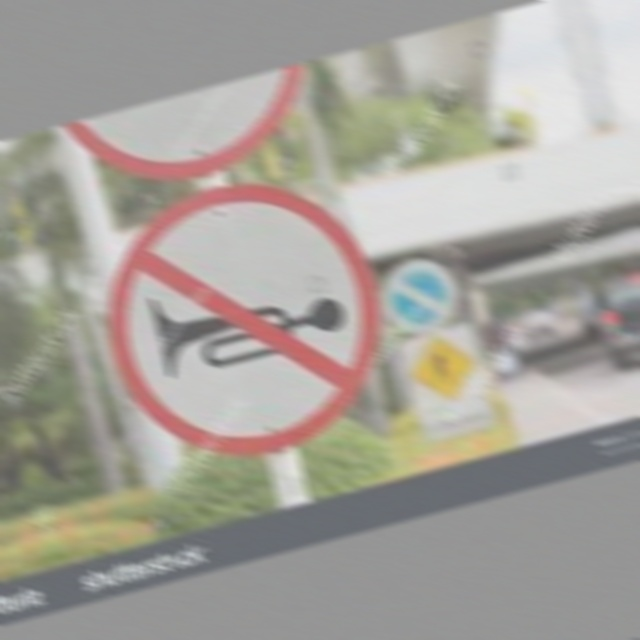Horn_Prohibited: (98, 163, 394, 471)
